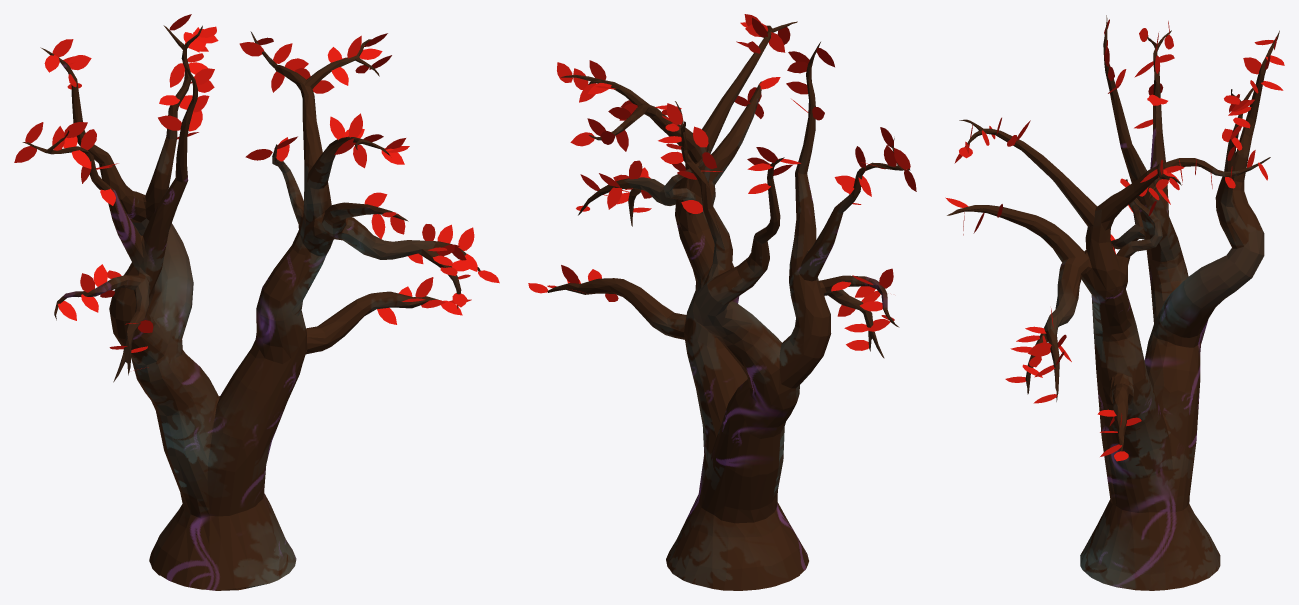
The model's file is fantasytreefix.fbx.
3 renders of one model, left to right at view 1: azimuth 30°, elevation 25°; view 2: azimuth 150°, elevation 25°; view 3: azimuth 270°, elevation 25°, orthographic. The views are drawn at different scales.
Visible parts, largest first — view 1: tree, Leaves; view 2: tree, Leaves; view 3: tree, Leaves.
Boxes of the visible parts, x1,y1,x2,y2 form: tree: (22,25,480,590); Leaves: (14,14,499,370); tree: (547,21,910,590); Leaves: (528,14,916,350); tree: (947,15,1279,590); Leaves: (945,19,1284,461).
Bounding box in the file's own units: 462 × 550 × 327.
2 materials, 1 textured.
